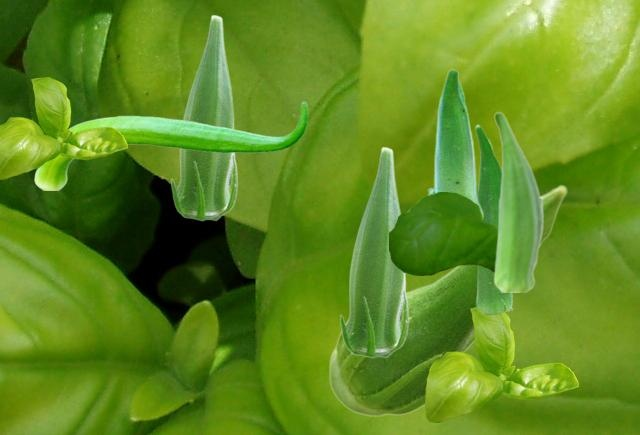okra: (328, 184, 567, 416), (34, 101, 307, 189), (339, 146, 408, 357), (170, 14, 237, 220), (493, 111, 543, 291), (427, 68, 483, 216), (475, 124, 511, 313)
